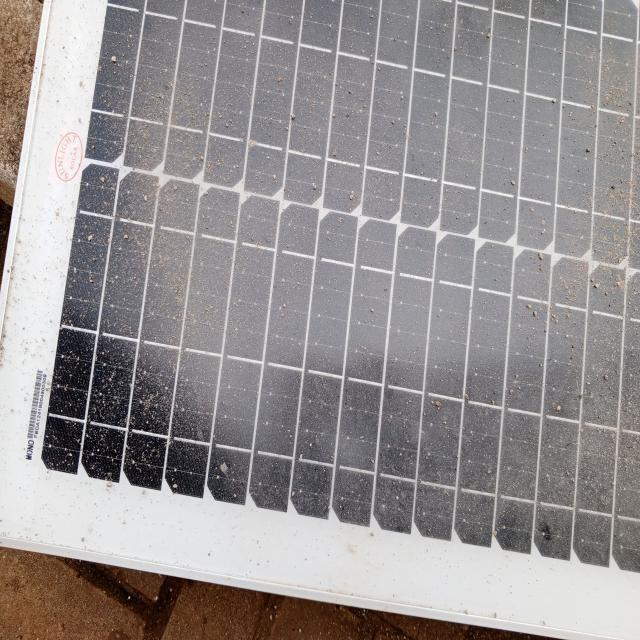Surface Contaminant: (86, 0, 631, 550)
